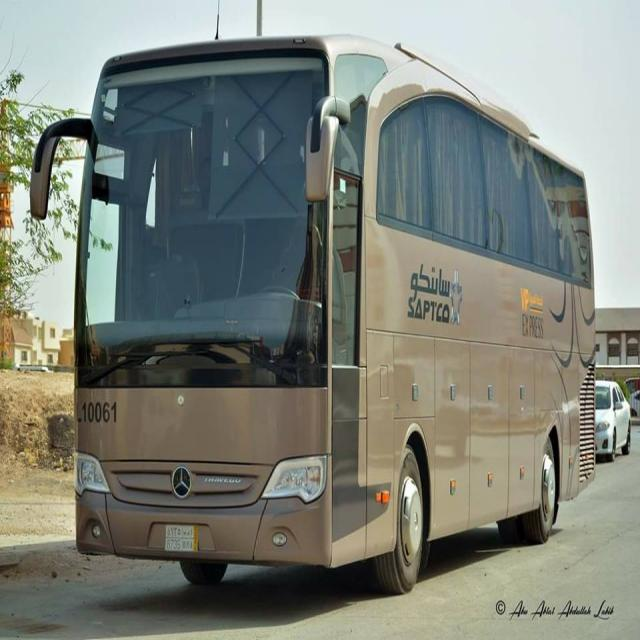bus: (29, 35, 597, 597)
